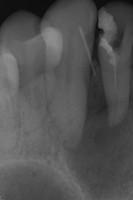Furcation Involvement: (64, 61, 133, 200)
